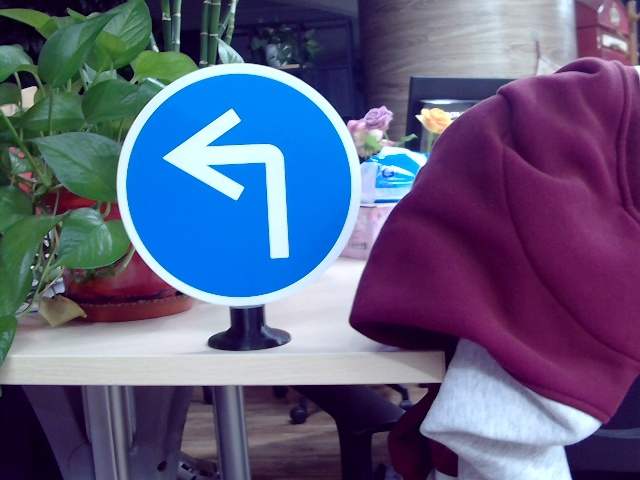turn_left: (159, 105, 304, 259)
